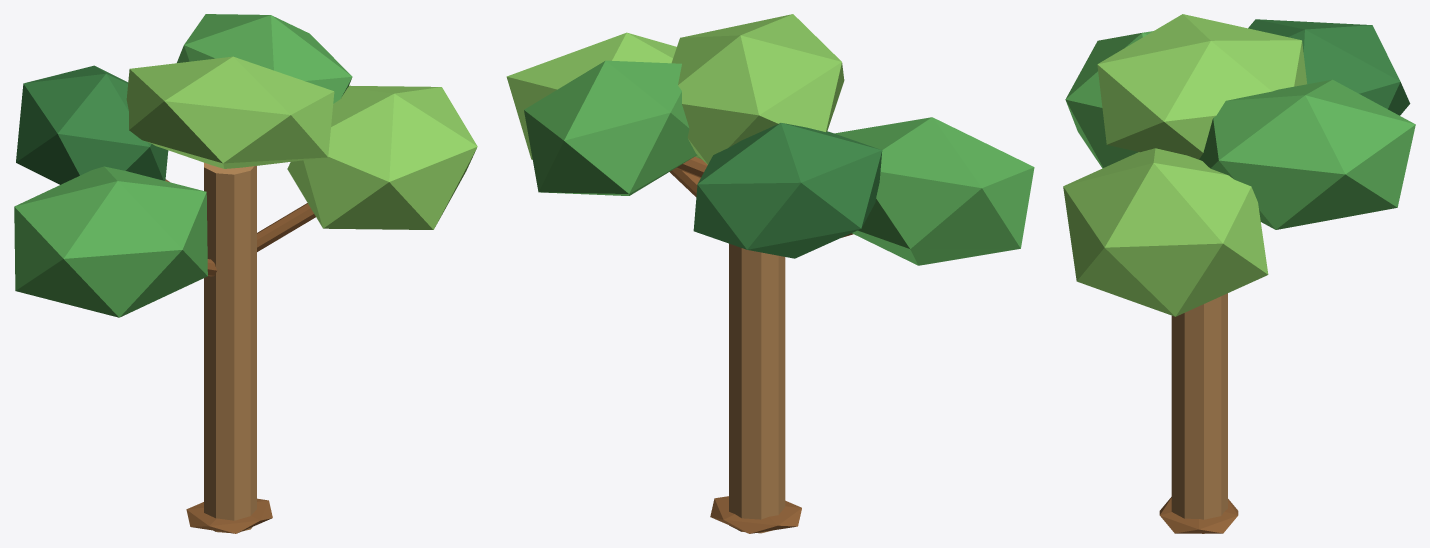
File: Oak.glb
3 views of the same model, side by side, from view 1: azimuth 30°, elevation 25°; view 2: azimuth 150°, elevation 25°; view 3: azimuth 270°, elevation 25° (orthographic). The views are drawn at different scales.
Visible parts, largest first — view 1: FTF_Nature_Oak_LowBroad_4_8m_Mesh; view 2: FTF_Nature_Oak_LowBroad_4_8m_Mesh; view 3: FTF_Nature_Oak_LowBroad_4_8m_Mesh.
Boxes of the visible parts, box(x1,y1,x2,y2) form: FTF_Nature_Oak_LowBroad_4_8m_Mesh: box(14, 14, 477, 533); FTF_Nature_Oak_LowBroad_4_8m_Mesh: box(506, 14, 1034, 533); FTF_Nature_Oak_LowBroad_4_8m_Mesh: box(1063, 14, 1415, 533).
Bounding box in the file's own units: 5.2 × 4.99 × 3.28.
